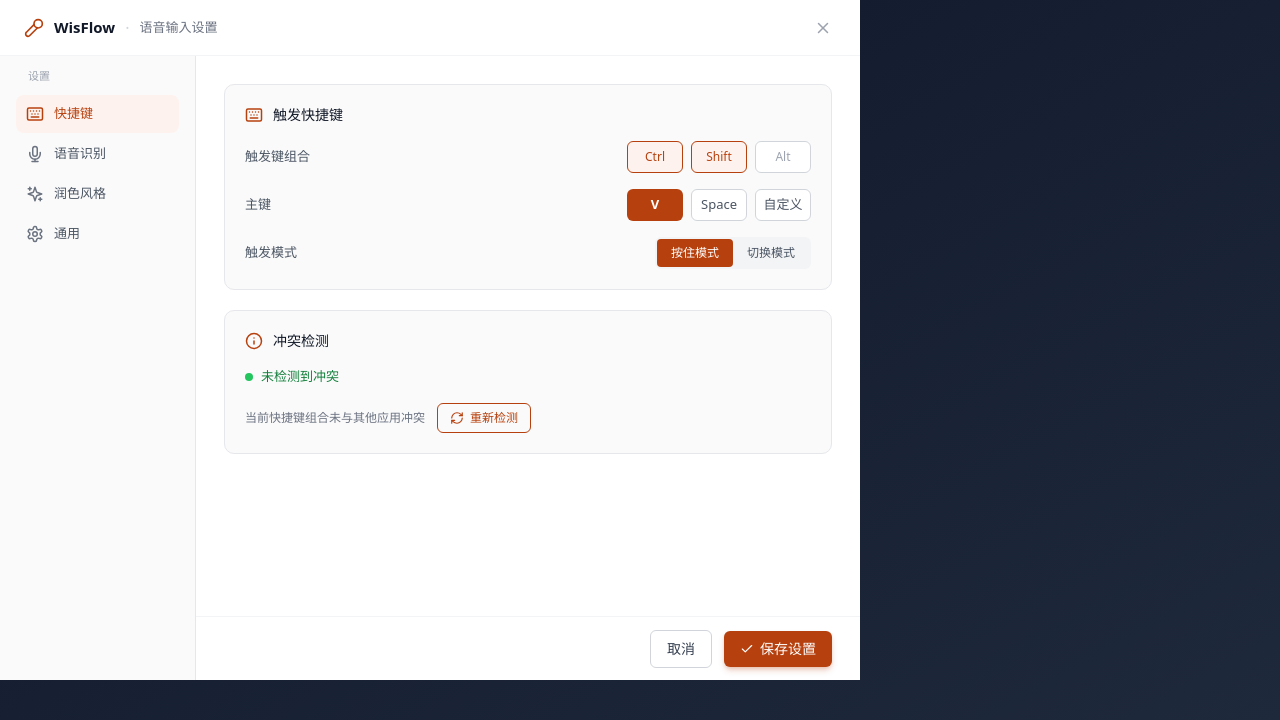
设置面板 › 加载配置 › 打开设置面板时应显示润色风格选项
点击润色风格标签
Click the button "润色风格". click: (98,194)
box: 16,174 -> 179,212
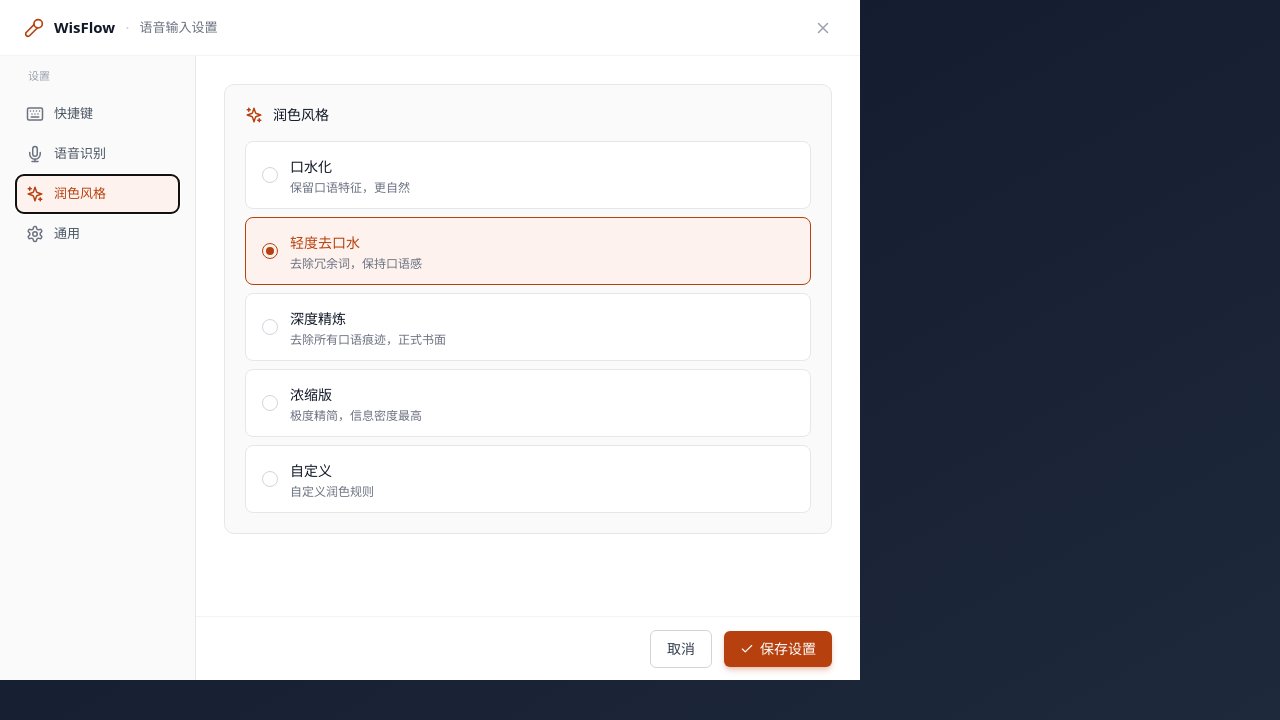
Check: the text "口水化" is shown, box 290,157 -> 332,176
Check: the text "轻度去口水" is shown, box 290,233 -> 360,252
Check: the text "深度精炼" is shown, box 290,309 -> 346,328
